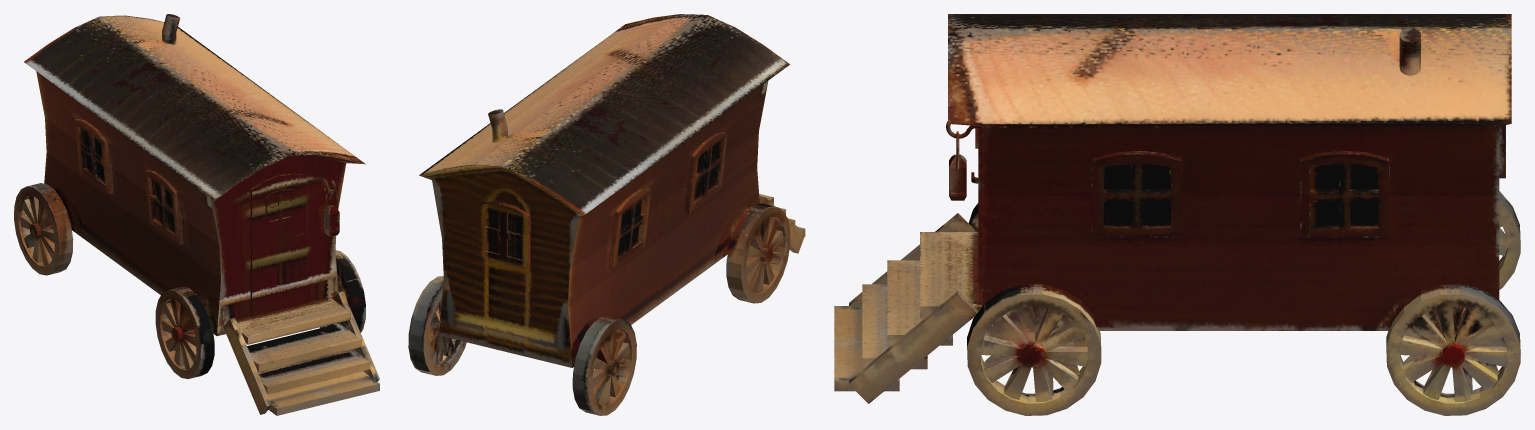
The model's file is textured_texpainter.glb.
The picture shows the model from 3 angles, left to right: view 1: azimuth 30°, elevation 25°; view 2: azimuth 150°, elevation 25°; view 3: azimuth 270°, elevation 25°; orthographic projection. The views are drawn at different scales.
Visible parts, largest first — view 1: Node-Mesh; view 2: Node-Mesh; view 3: Node-Mesh.
Part boxes in pixels (left/top/right/bottom): Node-Mesh: left=14, top=14, right=379, bottom=415; Node-Mesh: left=408, top=14, right=805, bottom=415; Node-Mesh: left=834, top=14, right=1520, bottom=415.
Size of the model in its own units: 0.853 by 1.16 by 2.
Materials: 1 (1 with a texture image).
